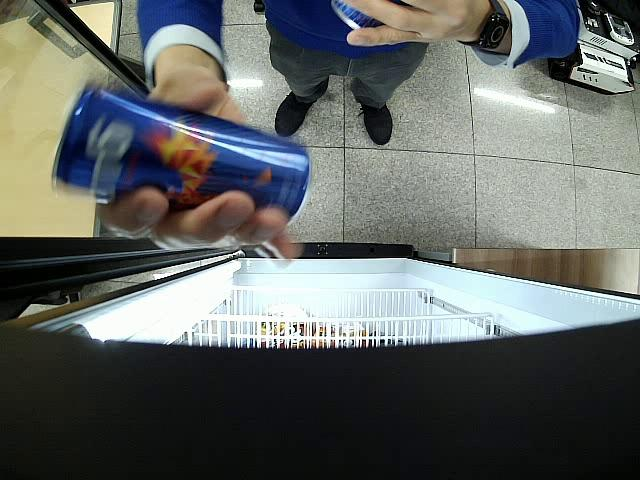00_hand: (100, 78, 300, 263), (346, 0, 482, 46)
16_hot6: (51, 79, 309, 227)
